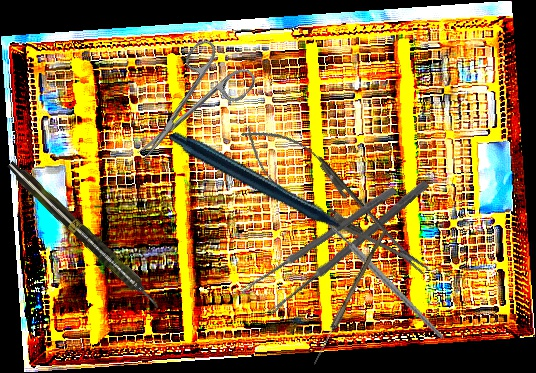Handpiece: (168, 81, 362, 301), (3, 157, 165, 314)
Hook Surgical: (294, 175, 445, 367)
Iris Scissors: (113, 31, 260, 180)
Needle Holder: (228, 109, 442, 294)
Surgical Spoon: (267, 178, 430, 318), (239, 185, 397, 296), (311, 226, 388, 367)
